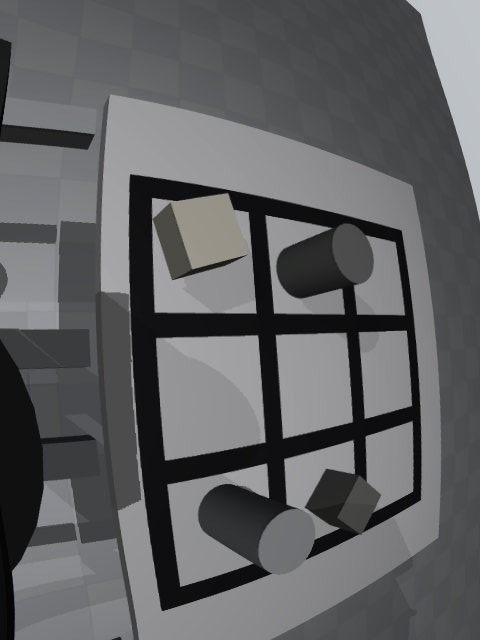can: (198, 484, 316, 575)
cube: (305, 469, 381, 535)
cylinder: (277, 224, 374, 299)
foam: (153, 193, 249, 280)
